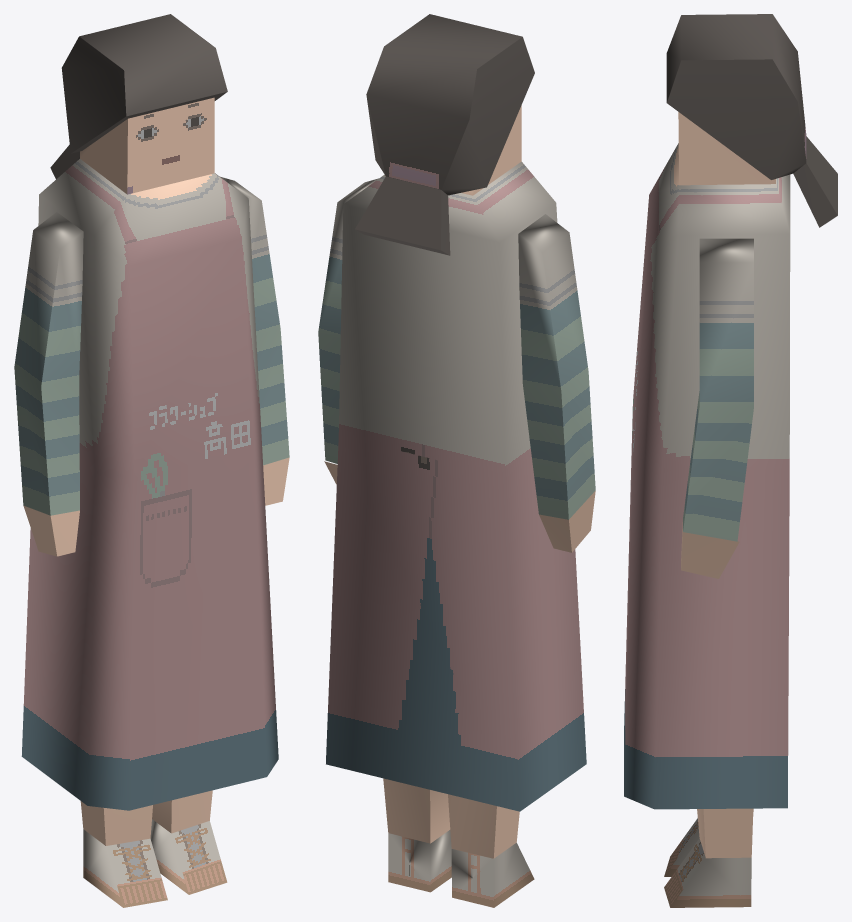
File: 0584_Flower_Girl.glb
3 views of the same model, side by side, from view 1: azimuth 30°, elevation 25°; view 2: azimuth 150°, elevation 25°; view 3: azimuth 270°, elevation 25° (orthographic).
Parts seen in each view (by area): view 1: part_0; view 2: part_0; view 3: part_0.
Boxes of the visible parts, bbox=[...] form: part_0: bbox=[14, 14, 289, 907]; part_0: bbox=[318, 14, 595, 907]; part_0: bbox=[624, 14, 837, 907].
Bounding box in the file's own units: 0.5048 × 1.67 × 0.3827.
Materials: 1 (1 with a texture image).
